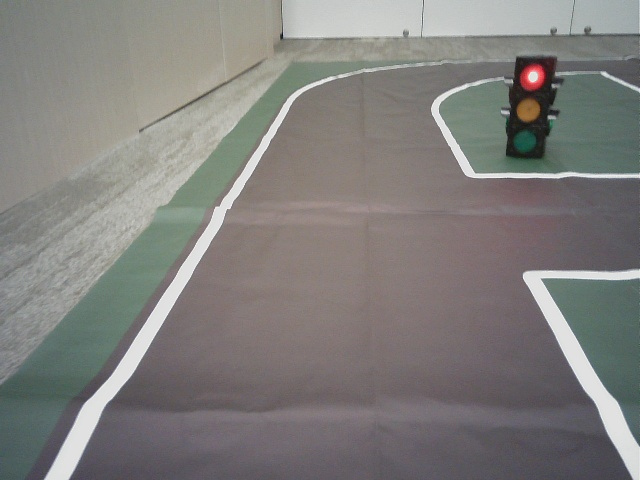red: (511, 61, 545, 155)
